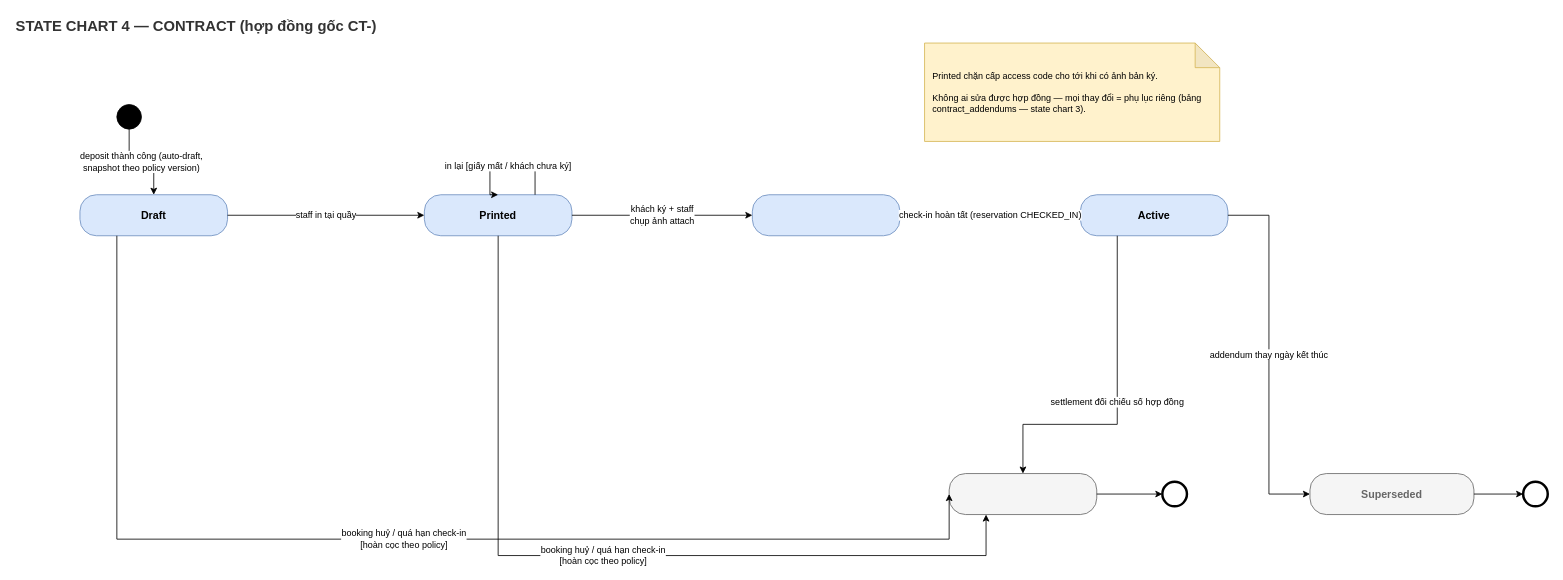
Image size: 1563x580. Some labels were removed from this diagram. The shapes that lost their labels are listed below. From the top down, each one's centre as x and y in pixels, then its label:
At (x=826, y=215): "Signed".
At (x=1022, y=494): "Closed".
